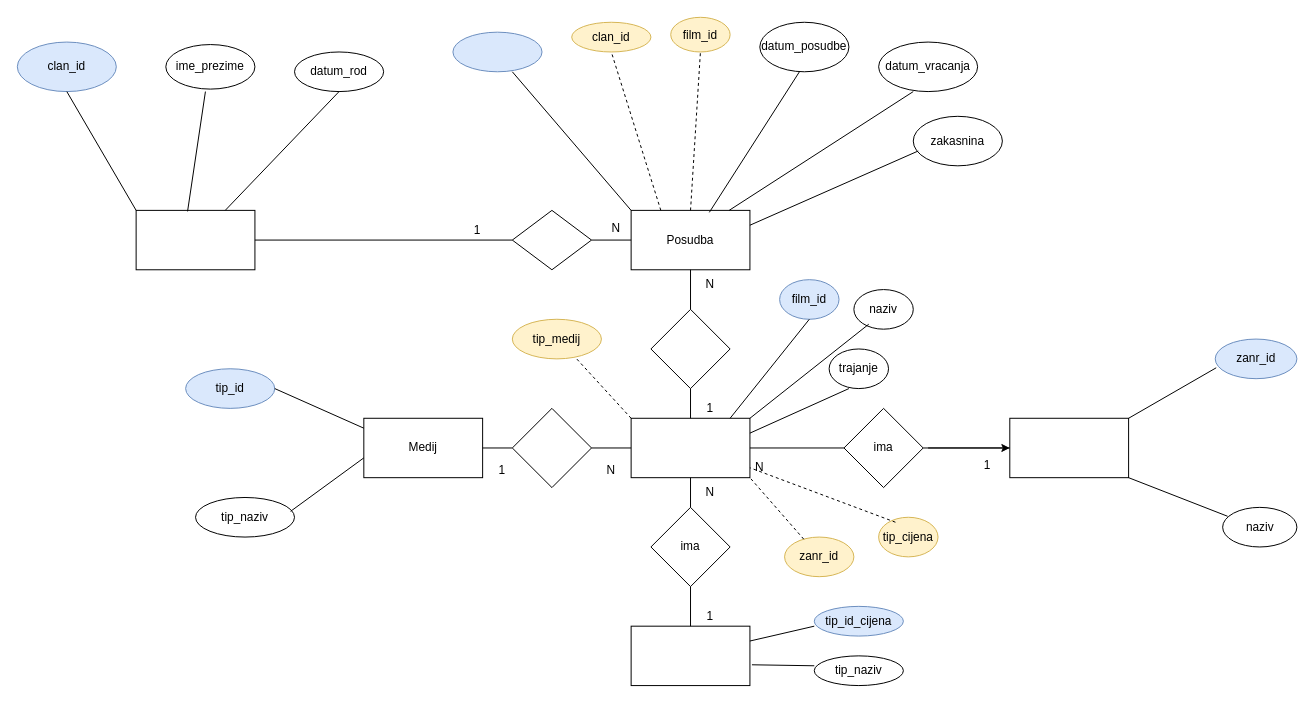
Some shapes in this 1315 by 703 pixel diagram are drawn without their labels. The centre of each missing label's shape, as x and y in pixels:
Cjenik: point (690, 655)
Film: point (690, 447)
kreira: point (551, 239)
posudba_id: point (497, 51)
sadrži: point (690, 348)
sprema: point (551, 447)
Član: point (195, 239)
Žanr: point (1069, 447)
